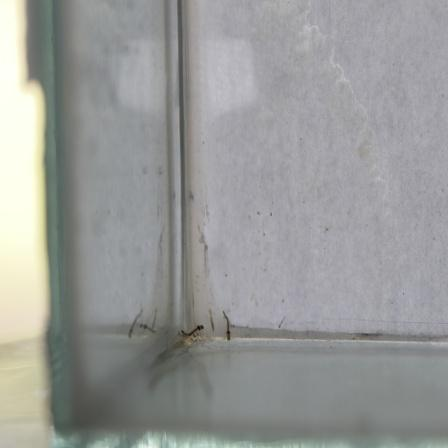Jentik-Nyamuk: (218, 307, 236, 344), (177, 321, 207, 338)
